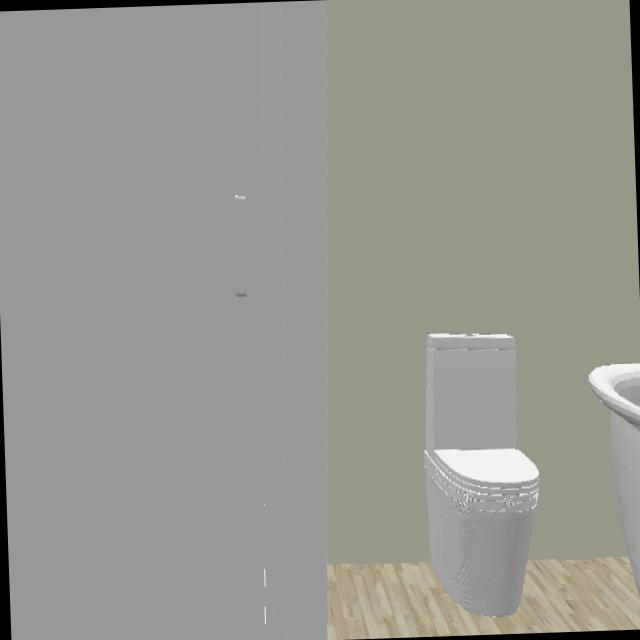bathtube: (587, 363, 640, 601)
toilet: (424, 332, 536, 616)
